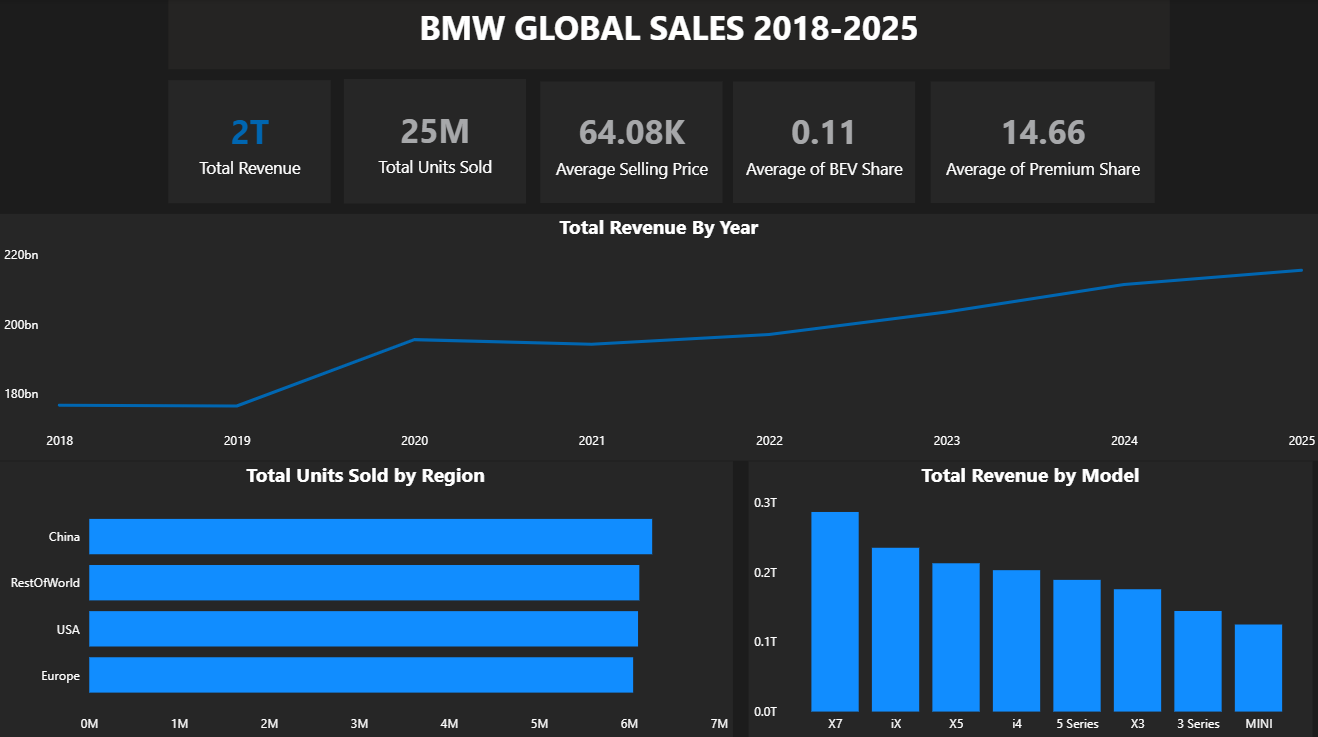

Layout of this report page (visuals, bound fields, positions):
{"tool":"powerbi","page":{"name":"Page 1","canvas":[1280,720],"ordinal":0},"visuals":[{"type":"card","fields":{"Values":["bmw global sales 2018_2025.Total Revenue"]},"box":[164.9,78.6,157.2,119.2],"z":0},{"type":"card","fields":{"Values":["bmw global sales 2018_2025.Total Units Sold"]},"box":[334.8,77.4,176.3,120.5],"z":1},{"type":"card","fields":{"Values":["bmw global sales 2018_2025.Average Selling Price"]},"box":[525,79.9,176.3,117.9],"z":2},{"type":"card","fields":{"Values":["Avg(bmw global sales 2018_2025.BEV Share)"]},"box":[711.4,79.9,176.3,117.9],"z":3},{"type":"card","fields":{"Values":["Avg(bmw global sales 2018_2025.Premium Share)"]},"box":[902.9,79.9,216.8,117.9],"z":4},{"type":"lineChart","title":"Total Revenue By Year","fields":{"Category":["bmw global sales 2018_2025.Year"],"Y":["bmw global sales 2018_2025.Total Revenue"]},"box":[0,207.6,1279.5,238.7],"z":5},{"type":"barChart","fields":{"Category":["bmw global sales 2018_2025.Region"],"Y":["bmw global sales 2018_2025.Total Units Sold"]},"box":[0,447.7,711.6,272.8],"z":6},{"type":"clusteredColumnChart","fields":{"Category":["bmw global sales 2018_2025.Model"],"Y":["bmw global sales 2018_2025.Total Revenue"]},"box":[726.5,447.7,545.6,272.8],"z":7},{"type":"textbox","box":[164.6,0,969.6,68.2],"z":8}]}

Visuals, with their boxes in screenshot pixels (x1, y1, x2, y2), scaled from the page's 1280x720 canvas onto the 1318x737 screenshot:
card - bmw global sales 2018_2025.Total Revenue: bbox=(170, 80, 332, 202)
card - bmw global sales 2018_2025.Total Units Sold: bbox=(345, 79, 526, 203)
card - bmw global sales 2018_2025.Average Selling Price: bbox=(541, 82, 722, 202)
card - Avg(bmw global sales 2018_2025.BEV Share): bbox=(733, 82, 914, 202)
card - Avg(bmw global sales 2018_2025.Premium Share): bbox=(930, 82, 1153, 202)
"Total Revenue By Year" lineChart: bbox=(0, 213, 1317, 457)
barChart - bmw global sales 2018_2025.Region x bmw global sales 2018_2025.Total Units Sold: bbox=(0, 458, 733, 736)
clusteredColumnChart - bmw global sales 2018_2025.Model x bmw global sales 2018_2025.Total Revenue: bbox=(748, 458, 1310, 736)
textbox: bbox=(169, 0, 1168, 70)
